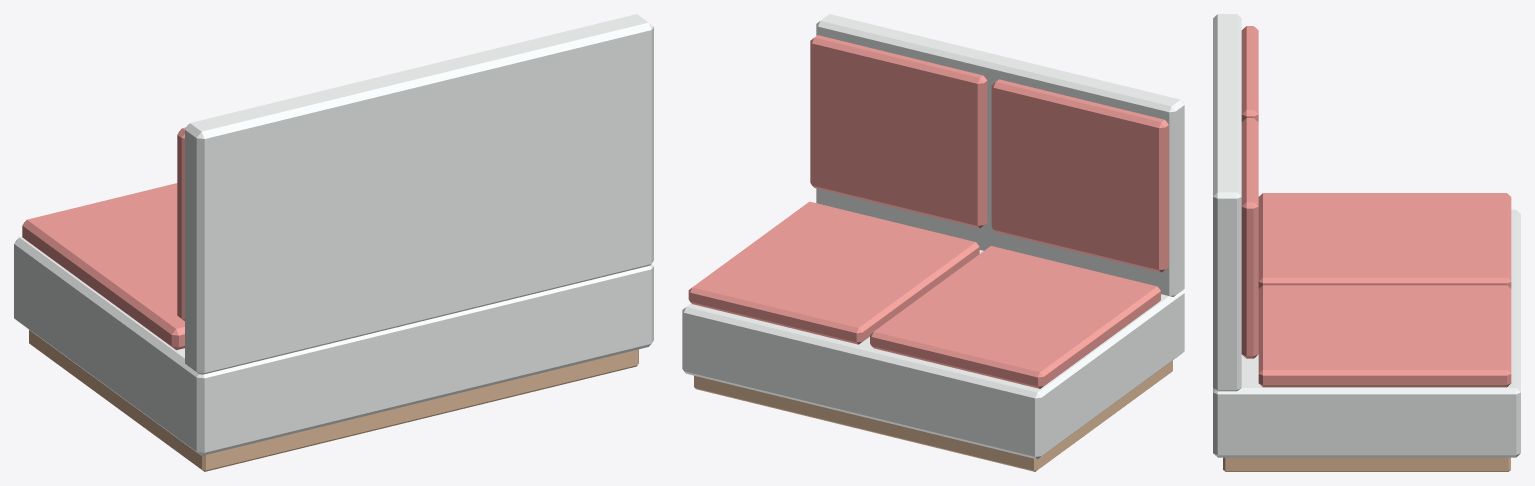
Rendered from diner_booth.glb.
The picture shows the model from 3 angles, left to right: view 1: azimuth 30°, elevation 25°; view 2: azimuth 150°, elevation 25°; view 3: azimuth 270°, elevation 25°; orthographic projection. The views are drawn at different scales.
Parts seen in each view (by area): view 1: Tall back shell, Padded bench base, Left seat cushion, Wood foot plinth, Left back cushion; view 2: Padded bench base, Left back cushion, Right back cushion, Left seat cushion, Right seat cushion, Tall back shell, Wood foot plinth; view 3: Right seat cushion, Padded bench base, Left seat cushion, Tall back shell, Wood foot plinth, Right back cushion, Left back cushion.
Part boxes in pixels (x1,y1,x2,y2): Tall back shell: (185,14,653,374); Padded bench base: (14,237,653,455); Left seat cushion: (22,183,184,350); Wood foot plinth: (29,330,638,471); Left back cushion: (177,127,185,321); Padded bench base: (682,250,1184,459); Left back cushion: (991,79,1168,272); Right back cushion: (810,35,987,228); Left seat cushion: (870,246,1160,388); Right seat cushion: (688,201,979,344); Tall back shell: (816,14,1184,296); Wood foot plinth: (694,360,1172,471); Right seat cushion: (1258,285,1511,387); Padded bench base: (1213,209,1520,457); Left seat cushion: (1258,193,1511,288); Tall back shell: (1213,14,1241,391); Wood foot plinth: (1223,457,1510,471); Right back cushion: (1241,118,1258,358); Left back cushion: (1241,26,1258,121).
Bounding box in the file's own units: 0.9 × 0.65 × 0.642.
